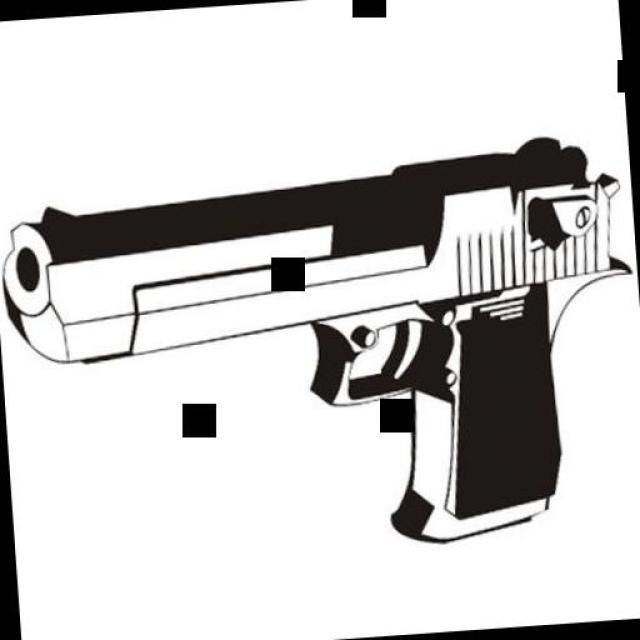gun: (21, 101, 640, 561)
